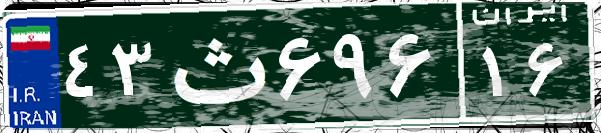1: (475, 38, 525, 113)
3: (110, 28, 158, 105)
4: (57, 26, 110, 107)
6: (385, 28, 445, 110), (273, 28, 330, 110), (525, 38, 570, 115)
9: (330, 28, 385, 110)
ث: (158, 15, 273, 115)
